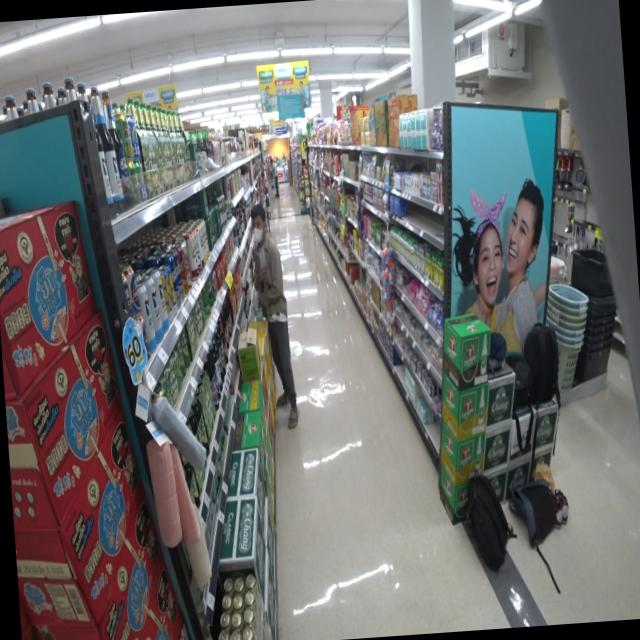shoplifting: (243, 197, 302, 433)
